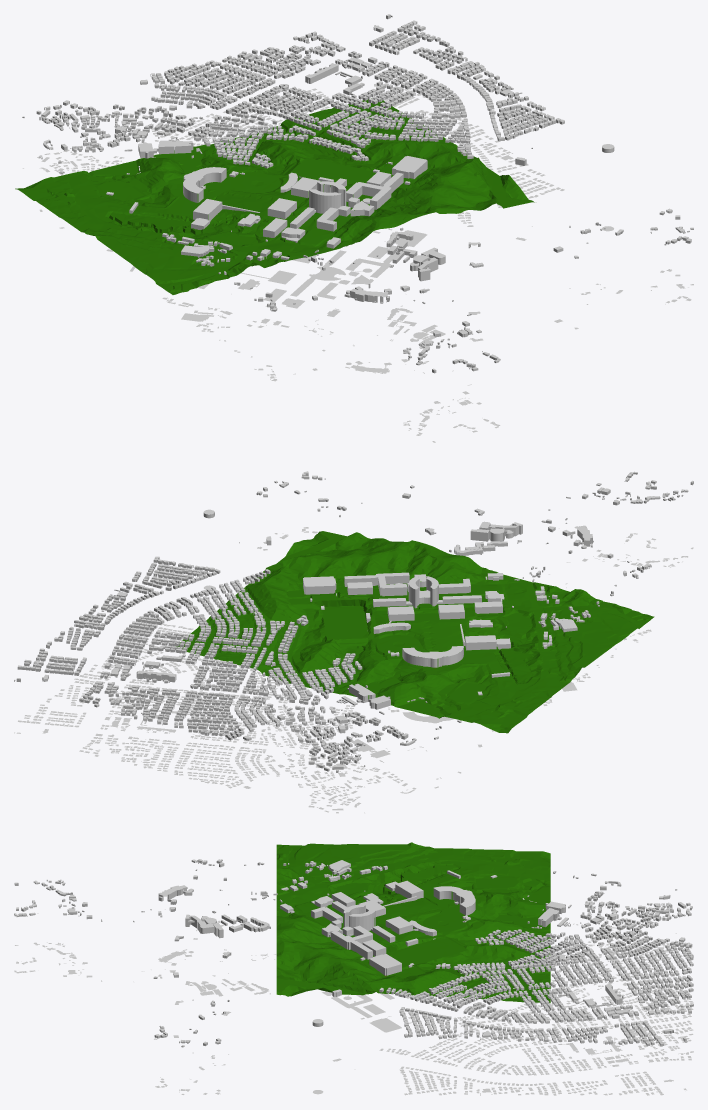
The model's file is gakkou_zahyou02-軽量化.glb.
The picture shows the model from 3 angles, top to bottom: view 1: azimuth 30°, elevation 25°; view 2: azimuth 150°, elevation 25°; view 3: azimuth 270°, elevation 25°; orthographic projection. The views are drawn at different scales.
Parts seen in each view (by area): view 1: CityGML.001, dem, CityGML; view 2: dem, CityGML.001, CityGML; view 3: CityGML.001, dem, CityGML.
Boxes of the visible parts, left/top/right/bottom form: CityGML.001: left=22, top=14, right=564, bottom=306; dem: left=15, top=98, right=534, bottom=294; CityGML: left=181, top=144, right=693, bottom=442; dem: left=175, top=531, right=654, bottom=733; CityGML.001: left=14, top=542, right=552, bottom=813; CityGML: left=203, top=471, right=693, bottom=691; CityGML.001: left=330, top=865, right=693, bottom=1095; dem: left=276, top=842, right=550, bottom=1003; CityGML: left=14, top=859, right=365, bottom=1094.
Bounding box in the file's own units: 127 × 22.16 × 186.
